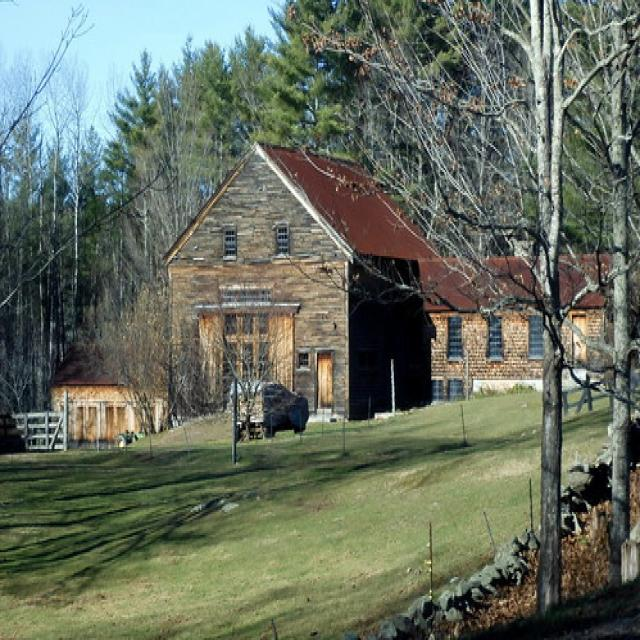building: (158, 136, 444, 434)
